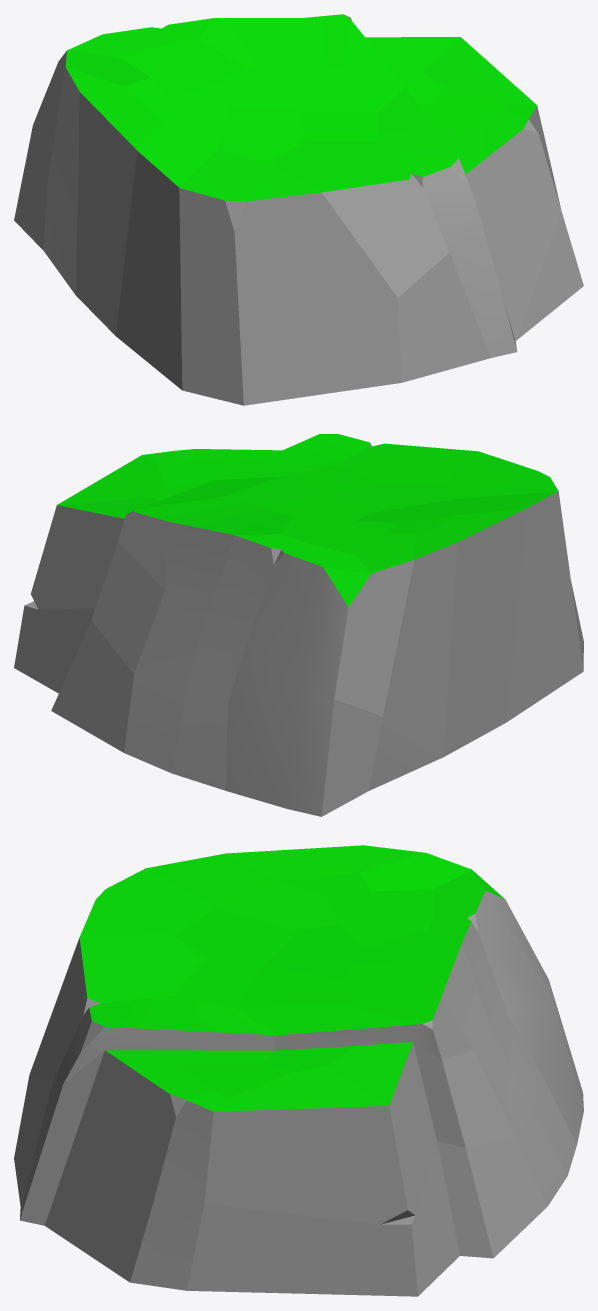
Rendered from rock_jungle_medium_G.fbx.
3 views of the same model, one above another, from view 1: azimuth 30°, elevation 25°; view 2: azimuth 150°, elevation 25°; view 3: azimuth 270°, elevation 25° (orthographic). The views are drawn at different scales.
Visible parts, largest first — view 1: rock_jungle_medium_G; view 2: rock_jungle_medium_G; view 3: rock_jungle_medium_G.
Boxes of the visible parts, x1,y1,x2,y2 form: rock_jungle_medium_G: (14,14,583,405); rock_jungle_medium_G: (14,434,583,816); rock_jungle_medium_G: (14,845,583,1296).
Bounding box in the file's own units: 75.79 × 35.26 × 79.62.
